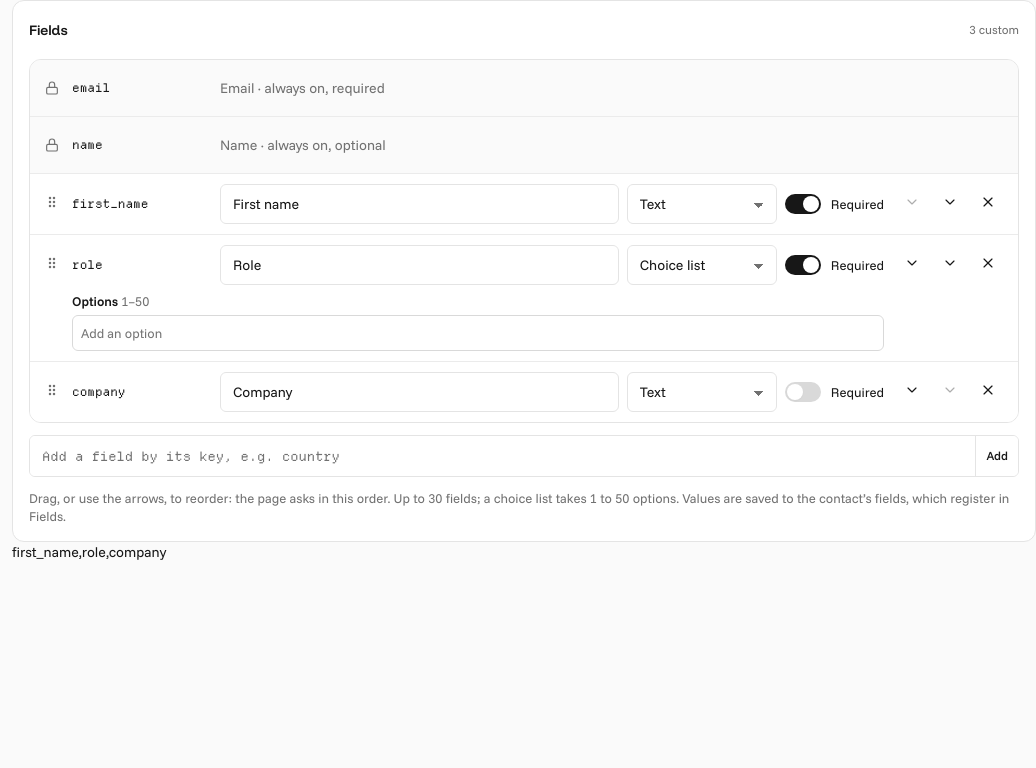
Test: FieldsSection › adds a field by key and refuses a reserved or repeated one
Type "email" into the field named "New field key".
click(503, 456); type("email")  # box [30,436,975,476]
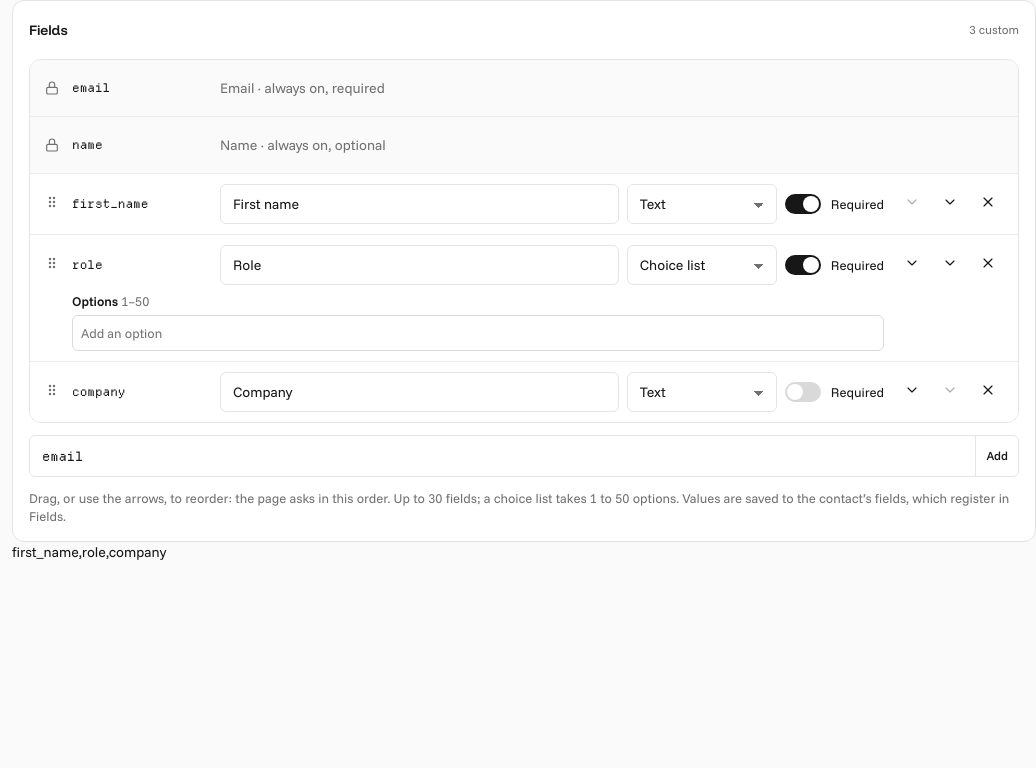
Click the button "Add".
click(997, 456)  # box [975,436,1018,476]
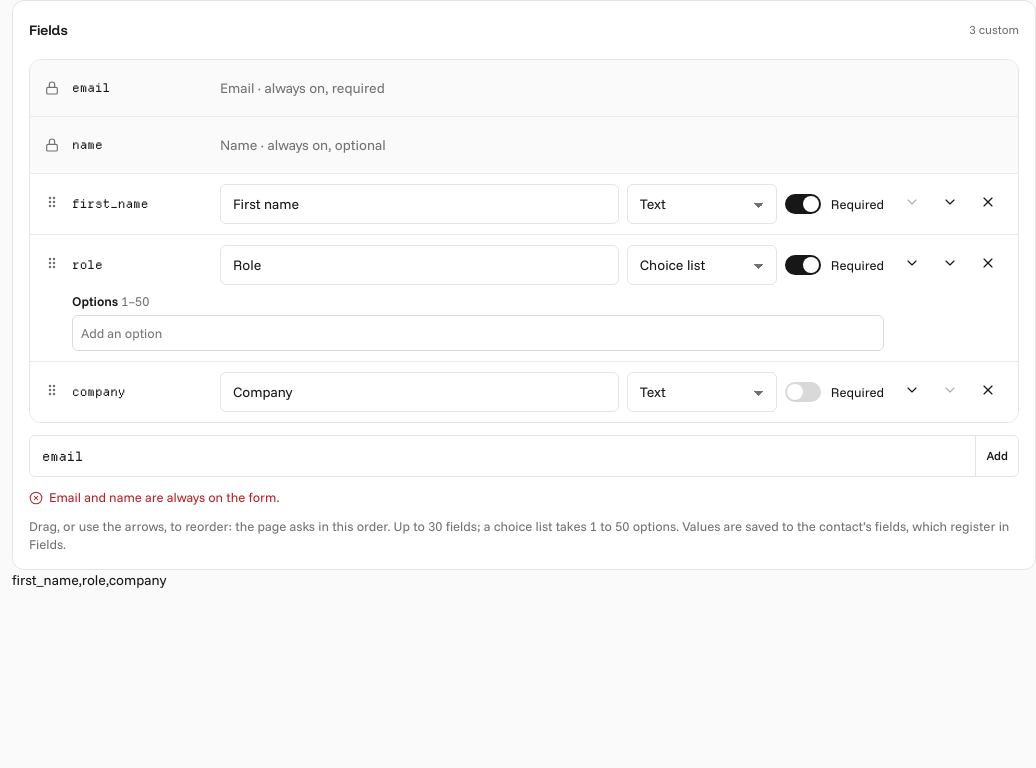
Expected: the message reads "Email and name are always on the form.", [49,489,279,505]
Replace the text in the field named "New field key" with "country" at (503, 456), box [30,436,975,476]
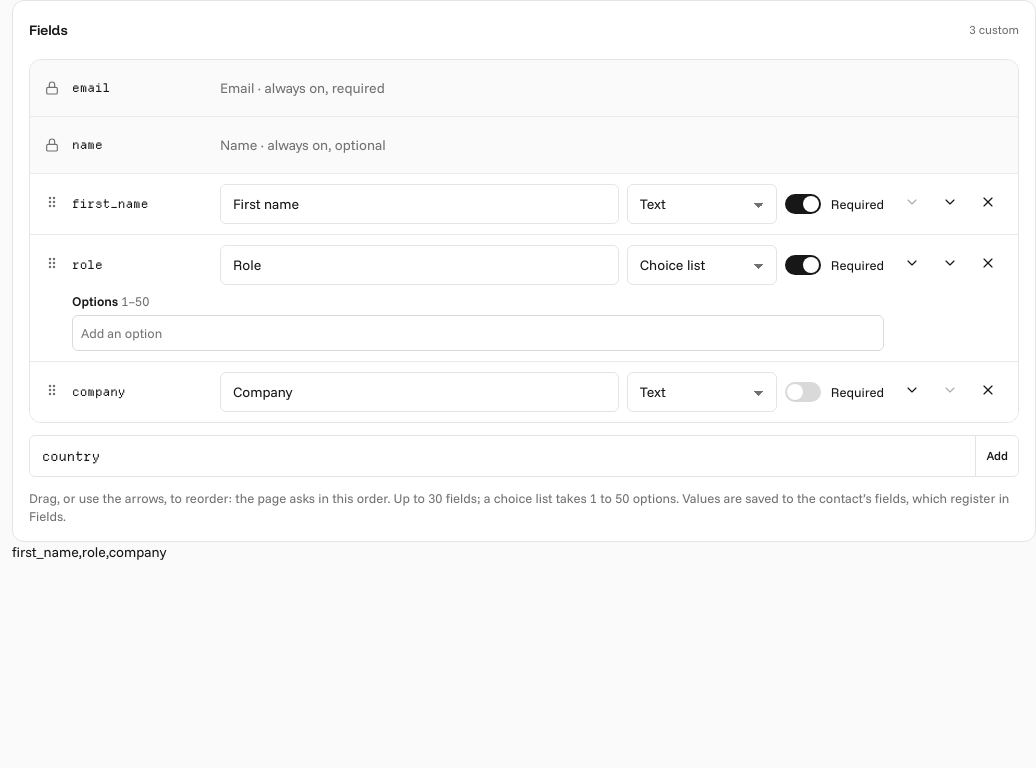
Click the button "Add".
click(997, 456)  # box [975,436,1018,476]
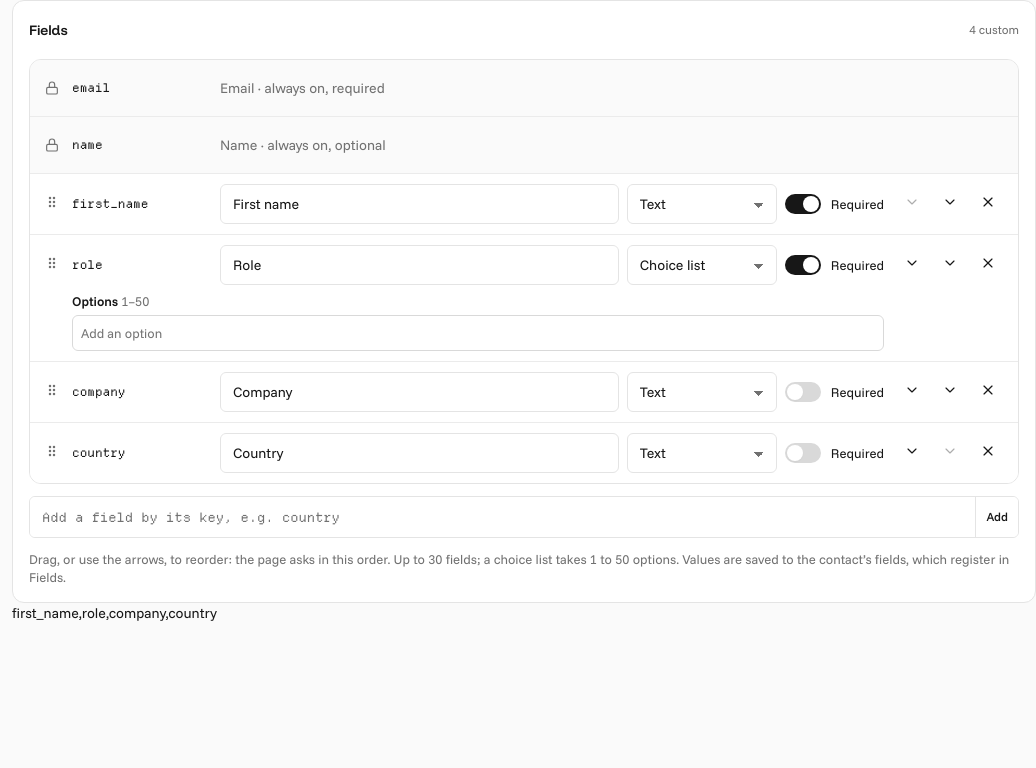
Expected: the text with test id "order" reads "first_name,role,company,country", [12,604,217,622]
